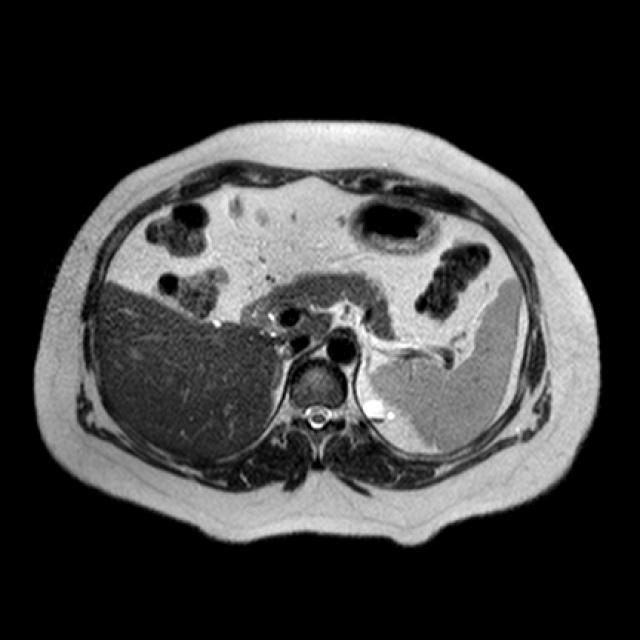sol: (360, 387, 395, 426)
